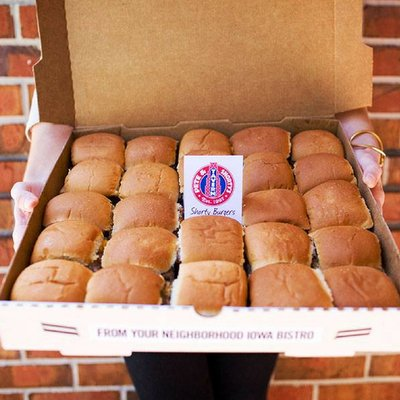salad: (248, 262, 333, 309), (302, 180, 374, 232), (101, 226, 178, 274), (11, 258, 94, 302), (31, 220, 105, 268), (244, 221, 312, 273), (178, 215, 245, 266), (323, 264, 400, 308), (84, 264, 165, 305), (310, 226, 382, 272), (42, 191, 113, 234), (110, 192, 179, 235), (242, 188, 311, 231), (292, 153, 354, 196), (118, 161, 179, 204), (63, 157, 123, 197), (242, 151, 295, 196), (229, 126, 291, 159), (177, 129, 232, 166), (71, 132, 126, 167), (124, 135, 178, 169), (291, 129, 344, 162)
